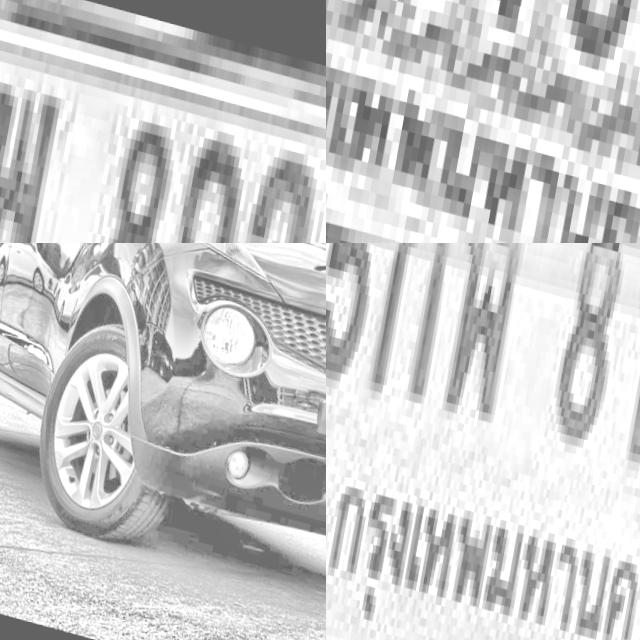license-plate: (326, 243, 640, 640), (0, 0, 326, 243), (326, 0, 640, 243)
